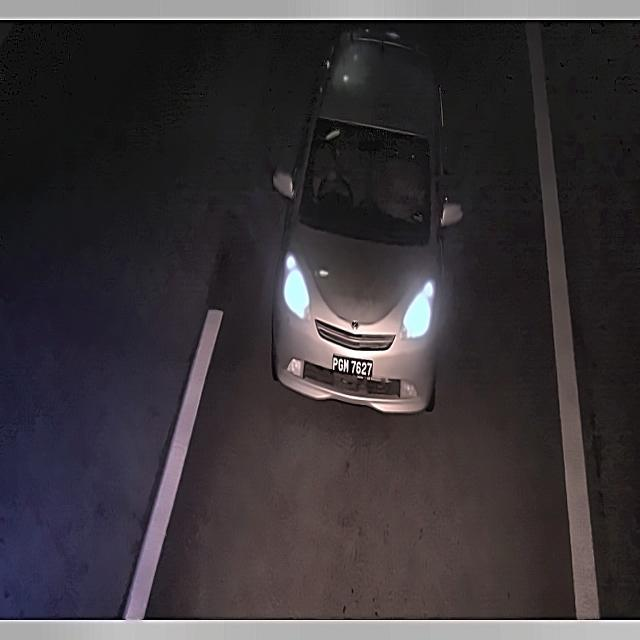car: (328, 348, 376, 386)
